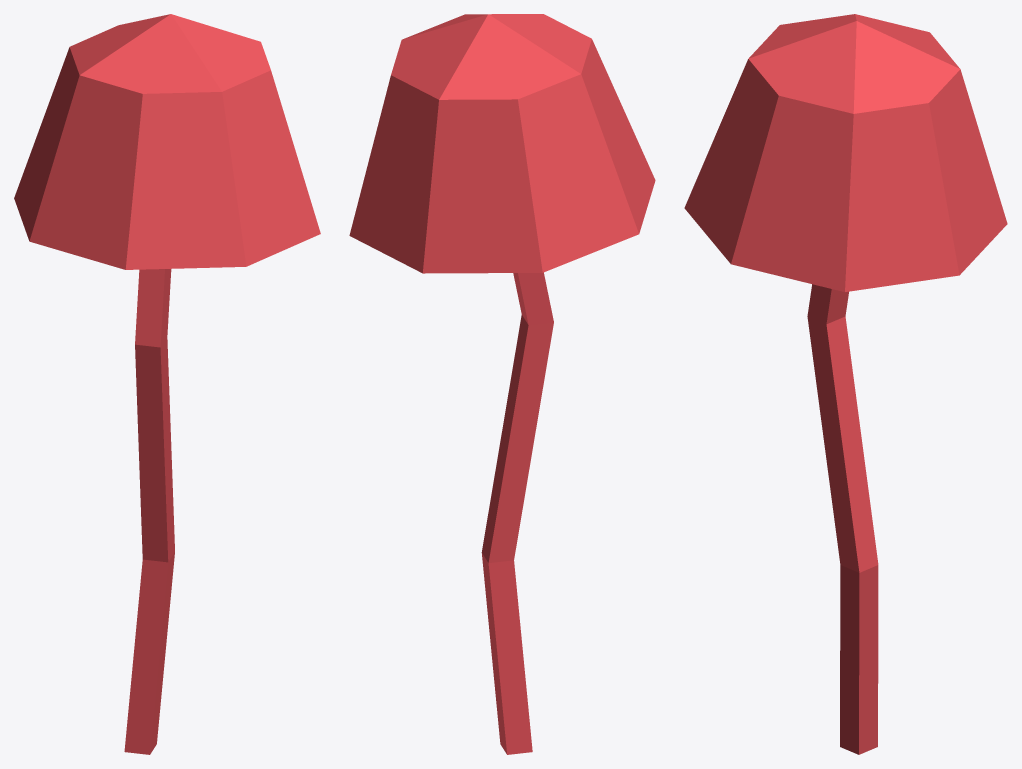
File: Mushroom_c_02.fbx
3 renders of one model, left to right at view 1: azimuth 30°, elevation 25°; view 2: azimuth 150°, elevation 25°; view 3: azimuth 270°, elevation 25°, orthographic.
Visible parts, largest first — view 1: Mushroom_c_02; view 2: Mushroom_c_02; view 3: Mushroom_c_02.
Boxes of the visible parts, x1,y1,x2,y2 form: Mushroom_c_02: [14, 14, 320, 754]; Mushroom_c_02: [349, 14, 655, 754]; Mushroom_c_02: [684, 14, 1007, 754].
Bounding box in the file's own units: 14.72 × 37.21 × 14.72.
